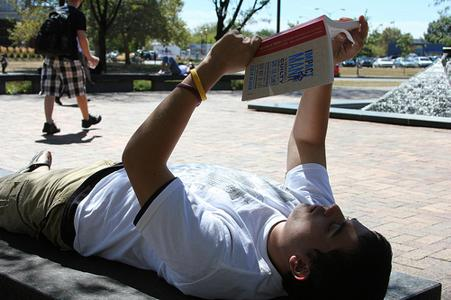person: (3, 16, 395, 299)
